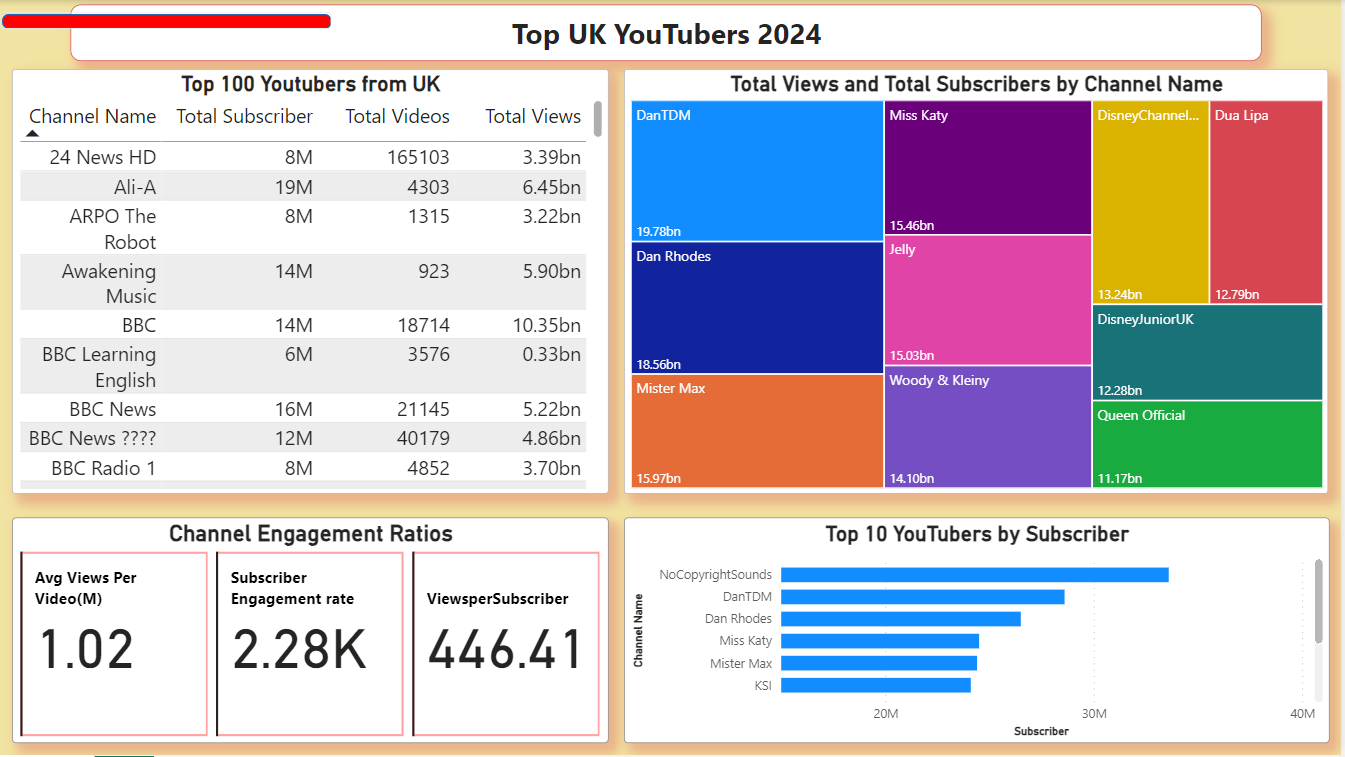

The dashboard page shown, as its layout file describes it:
{"tool":"powerbi","page":{"name":"Page 1","canvas":[1280,720],"ordinal":0},"visuals":[{"type":"textbox","box":[66.8,4.8,1136.4,54],"z":0},{"type":"tableEx","title":"Top 100 Youtubers from UK","fields":{"Values":["view_uk_youtubers_2024.channel_name","view_uk_youtubers_2024.total_subscribers","view_uk_youtubers_2024.total_videos","view_uk_youtubers_2024.total_views"]},"box":[11.1,65.2,569,405.3],"z":1000},{"type":"treemap","title":"Total Views and Total Subscribers by Channel Name","fields":{"Group":["view_uk_youtubers_2024.channel_name"],"Values":["view_uk_youtubers_2024.total_views"]},"box":[596,65.2,672.3,405.3],"z":2000},{"type":"cardVisual","title":"Channel Engagement Ratios","fields":{"Data":["view_uk_youtubers_2024.Avg Views Per Video(M)","view_uk_youtubers_2024.Subscriber Engagement rate","view_uk_youtubers_2024.ViewsperSubscriber"]},"box":[11.3,493.5,569.5,215.2],"z":3000},{"type":"barChart","title":"Top 10 YouTubers by Subscriber","fields":{"Category":["view_uk_youtubers_2024.channel_name"],"Y":["view_uk_youtubers_2024.total_subscribers"]},"box":[595.4,493.5,673.1,215.2],"z":4000},{"type":"shape","box":[0,11.1,316.3,15.9],"z":4001}]}

Visuals, with their boxes in screenshot pixels (x1, y1, x2, y2), scaled from the page's 1280x720 canvas onto the 1345x757 screenshot:
textbox: {"x1": 70, "y1": 5, "x2": 1264, "y2": 62}
"Top 100 Youtubers from UK" tableEx: {"x1": 12, "y1": 69, "x2": 610, "y2": 495}
"Total Views and Total Subscribers by Channel Name" treemap: {"x1": 626, "y1": 69, "x2": 1333, "y2": 495}
"Channel Engagement Ratios" cardVisual: {"x1": 12, "y1": 519, "x2": 610, "y2": 745}
"Top 10 YouTubers by Subscriber" barChart: {"x1": 626, "y1": 519, "x2": 1333, "y2": 745}
shape: {"x1": 0, "y1": 12, "x2": 332, "y2": 28}
